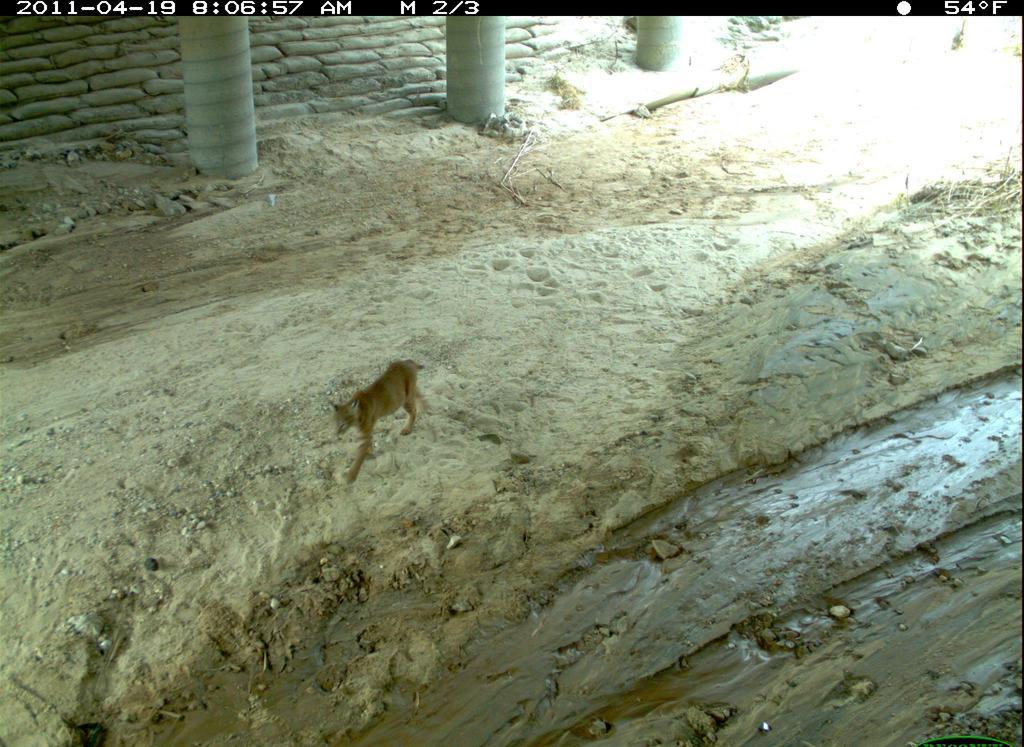bobcat: (292, 347, 461, 498)
